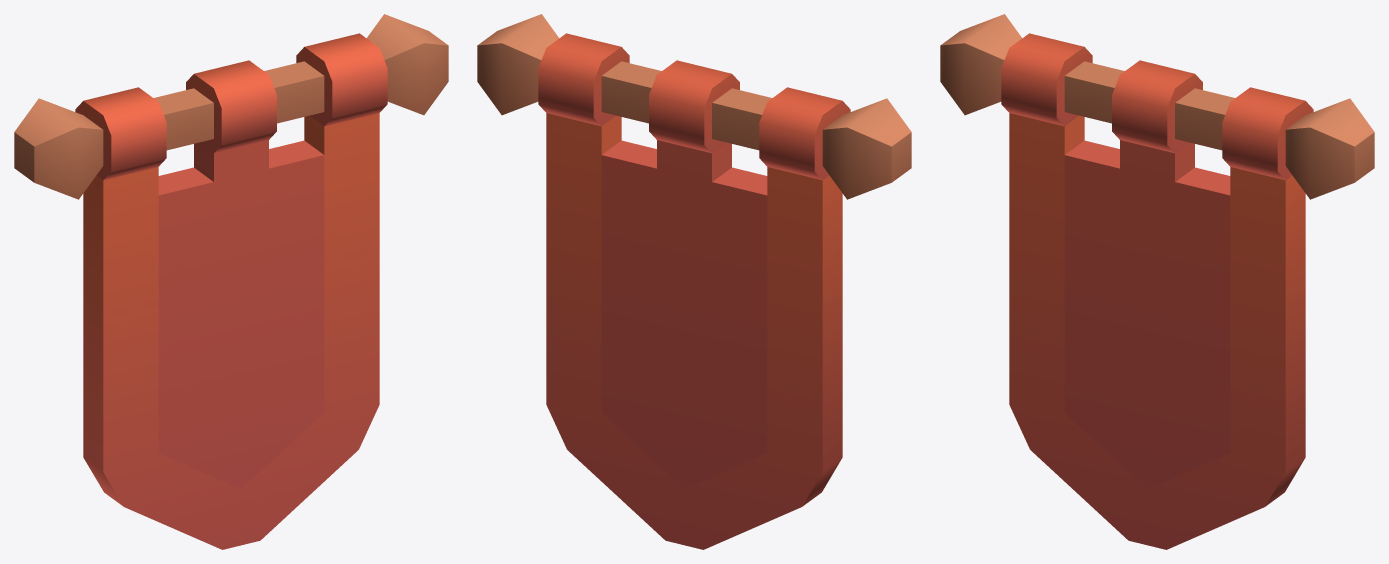
The picture shows the model from 3 angles, left to right: view 1: azimuth 30°, elevation 25°; view 2: azimuth 150°, elevation 25°; view 3: azimuth 330°, elevation 25°; orthographic projection.
Visible parts, largest first — view 1: banner; view 2: banner; view 3: banner.
Part boxes in pixels (left/top/right/bottom): banner: left=14, top=14, right=448, bottom=549; banner: left=477, top=14, right=911, bottom=549; banner: left=940, top=14, right=1374, bottom=549.
Bounding box in the file's own units: 0.6 × 0.6465 × 0.1.
1 material, 1 textured.
